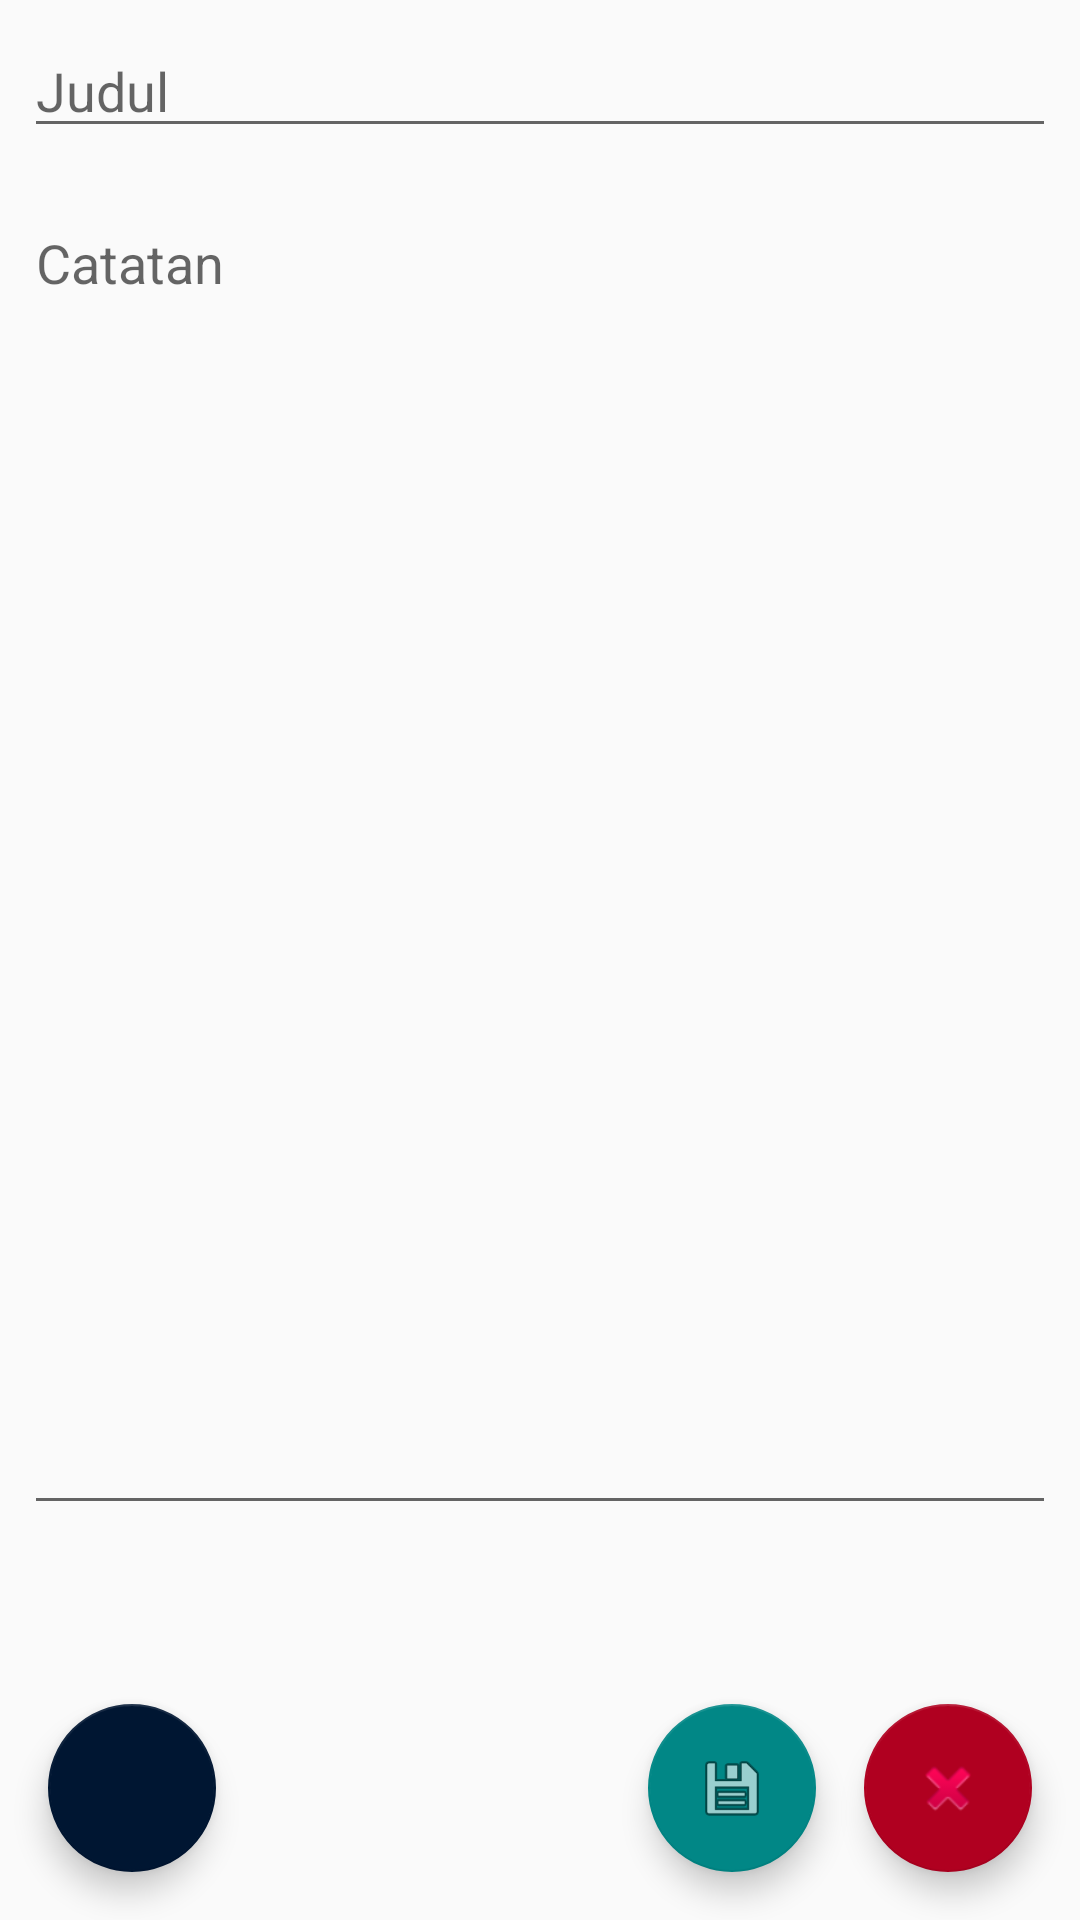

Icon click points for this 1080px×1920px phone screenshot, format (x=x, y=y):
delete: (x=948, y=1788)
save: (x=732, y=1788)
